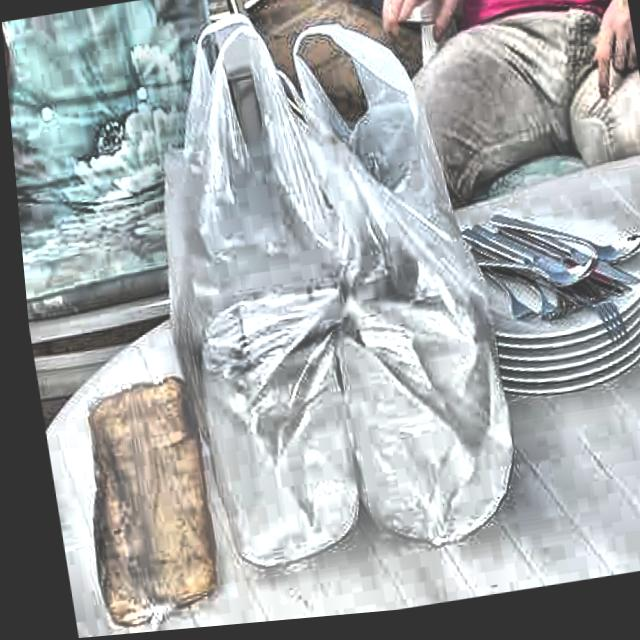Plastic: (264, 16, 528, 574), (125, 7, 366, 598)
